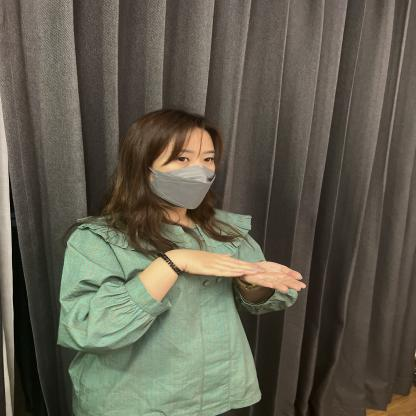Love: (102, 222, 364, 329)
